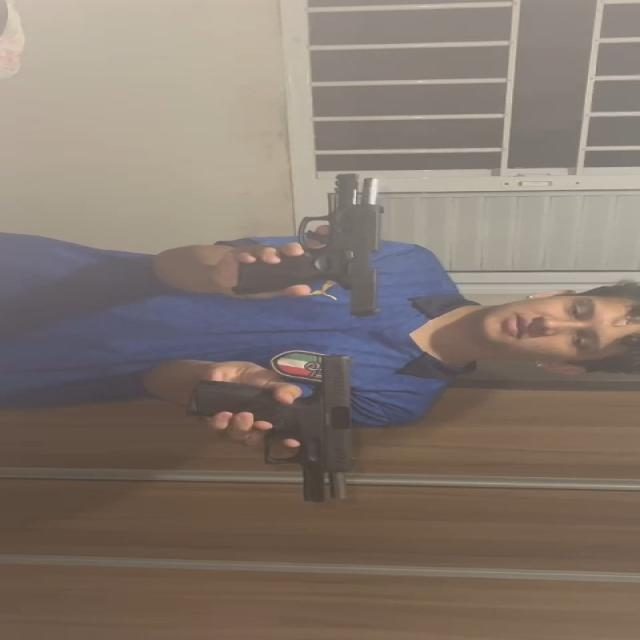gun: (188, 354, 358, 506), (225, 172, 383, 316)
